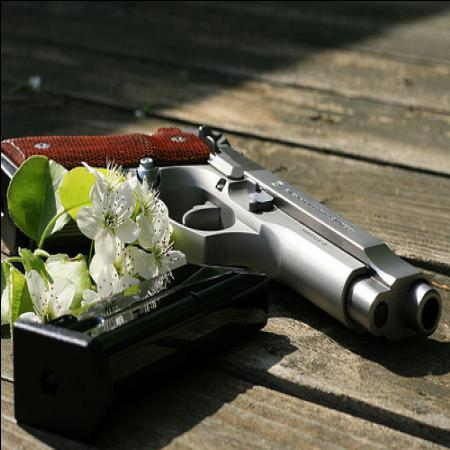Pistol: (1, 122, 442, 342)
